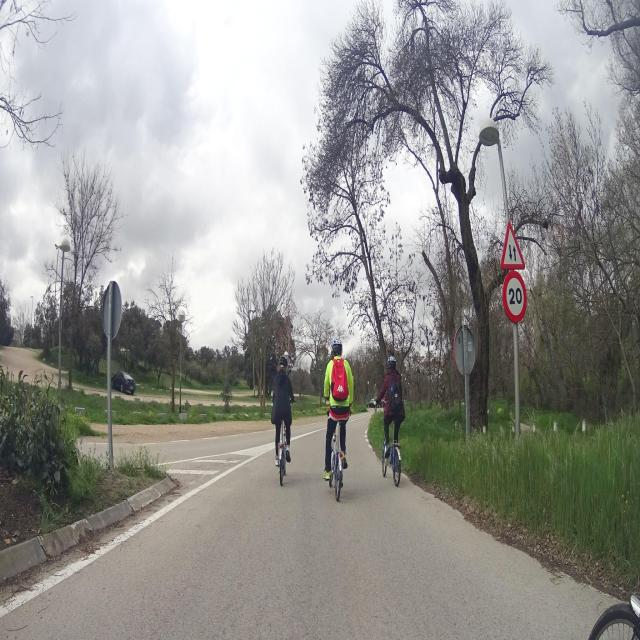bike: (324, 395, 349, 502), (380, 396, 404, 486), (272, 391, 294, 486)
car: (111, 370, 136, 395)
